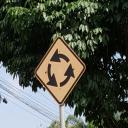Rotatoria: (35, 34, 86, 106)
